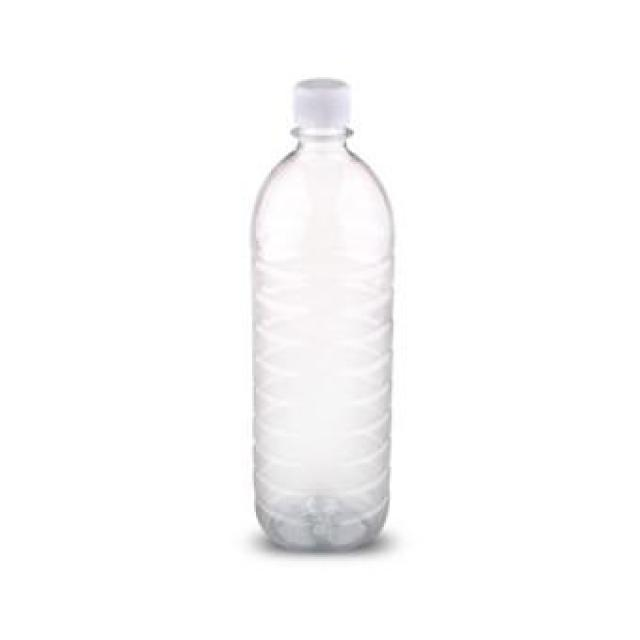plastic: (250, 77, 392, 550)
